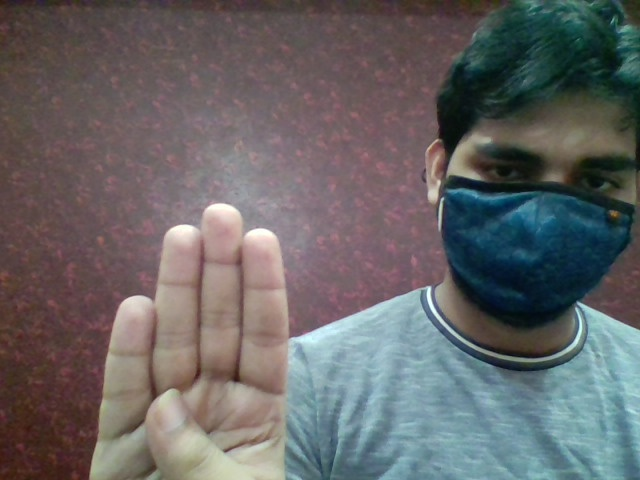b: (71, 196, 309, 479)
